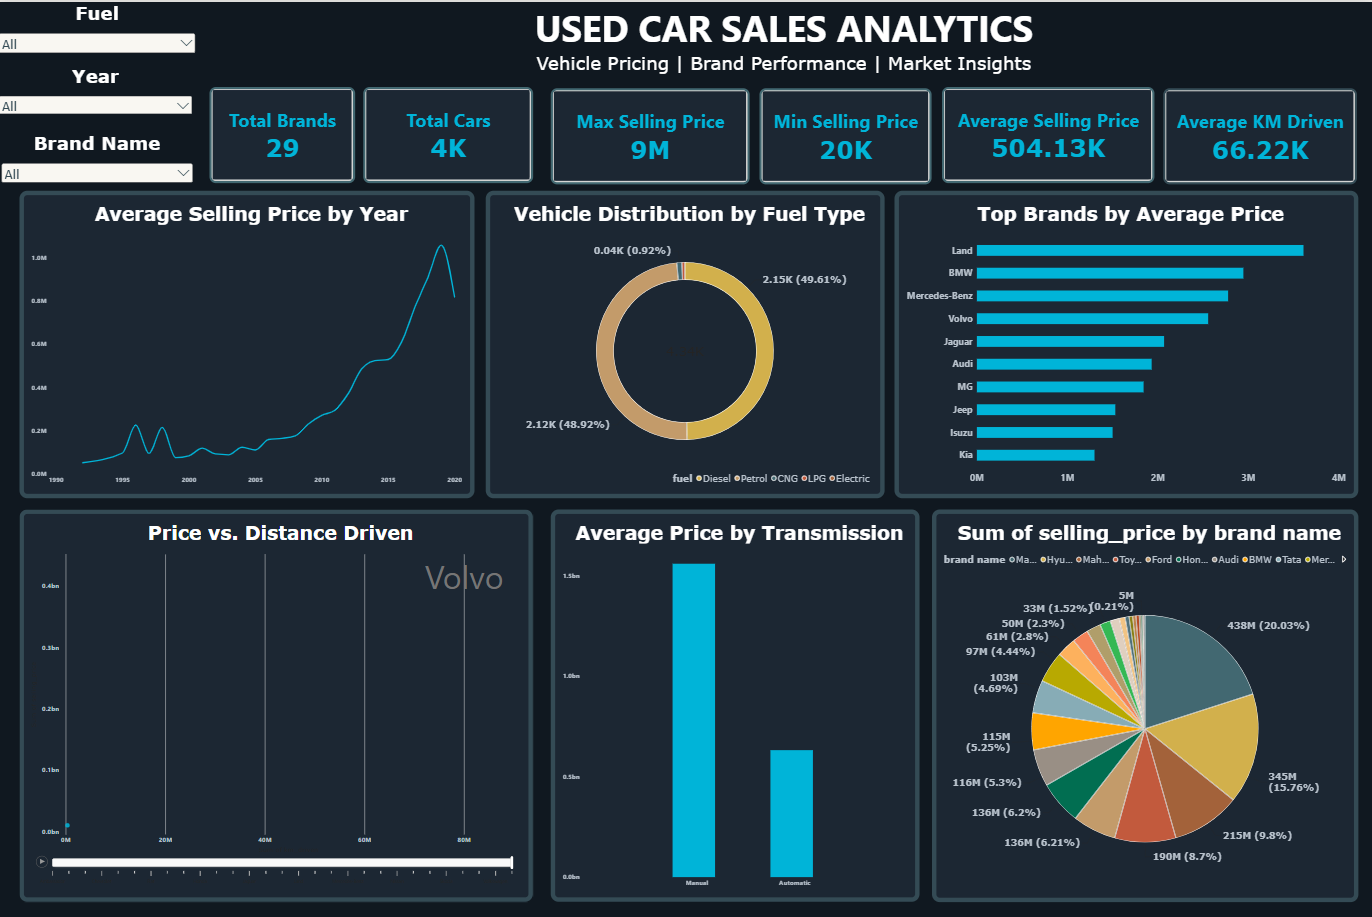

The page's visual inventory and layout, read from the dashboard file:
{"tool":"powerbi","page":{"name":"Page 1","canvas":[3000,2000],"ordinal":0},"visuals":[{"type":"slicer","title":"Fuel","fields":{"Values":["car_data (3).fuel"]},"box":[0,0,437.4,128.6],"z":0},{"type":"slicer","title":"Year","fields":{"Values":["car_data (3).year"]},"box":[0,136.3,430.2,107],"z":1000},{"type":"slicer","title":"Brand Name","fields":{"Values":["car_data (3).brand name"]},"box":[5.5,283.4,425.6,109.9],"z":2000},{"type":"cardVisual","title":"Total Brands","fields":{"Data":["car_data (3).Total Brands"]},"box":[463.3,185.3,317.4,209.3],"z":3000},{"type":"cardVisual","title":"Min Selling Price ","fields":{"Data":["car_data (3).Min Selling Price"]},"box":[1662.4,188,375,209.3],"z":4000},{"type":"cardVisual","title":"Max Selling Price","fields":{"Data":["car_data (3).Max Selling Price"]},"box":[1207.3,188,433.3,209.8],"z":5000},{"type":"textbox","title":"USED CAR SALES ANALYTICS","box":[463.3,0,2504.5,166.2],"z":6000},{"type":"cardVisual","title":"Avg Selling Price","fields":{"Data":["car_data (3).Average Selling Price"]},"box":[2060.3,185.3,463.3,209.8],"z":7000},{"type":"cardVisual","title":"Avg KM Driven","fields":{"Data":["car_data (3).Average KM Driven"]},"box":[2542.7,188,422.4,209.8],"z":8000},{"type":"cardVisual","title":"Total cars","fields":{"Data":["car_data (3).Total Cars"]},"box":[798.5,185.3,370.6,209.8],"z":9000},{"type":"lineChart","title":"Average Selling Price by Year","fields":{"Category":["car_data (3).year"],"Y":["Avg(car_data (3).selling_price)"]},"box":[27.3,411.5,1013.8,670.4],"z":10000},{"type":"clusteredBarChart","title":"Top Brands by Average Price","fields":{"Category":["car_data (3).brand name"],"Y":["Avg(car_data (3).selling_price)"]},"box":[1956.8,411.5,1011.1,670.4],"z":11000},{"type":"donutChart","title":"Vehicle Distribution by Fuel Type","fields":{"Category":["car_data (3).fuel"],"Y":["CountNonNull(car_data (3).selling_price)"]},"box":[1065.6,411.5,869.4,670.4],"z":12000},{"type":"clusteredColumnChart","title":"Average Price by Transmission","fields":{"Category":["car_data (3).transmission"],"Y":["Sum(car_data (3).selling_price)"]},"box":[1188.2,1106.5,823,855.7],"z":13000},{"type":"scatterChart","title":"Price vs. Distance Driven","fields":{"Play":["car_data (3).brand name"],"X":["Sum(car_data (3).km_driven)"],"Y":["Sum(car_data (3).selling_price)"]},"box":[27.3,1106.5,1139.2,855.7],"z":14000},{"type":"pieChart","fields":{"Category":["car_data (3).brand name"],"Y":["Sum(car_data (3).selling_price)"]},"box":[2038.5,1106.5,929.3,855.7],"z":15000}]}

Visuals, with their boxes in screenshot pixels (x1, y1, x2, y2), scaled from the page's 3000x2000 canvas onto the 1372x917 screenshot:
"Fuel" slicer: (0,0,200,59)
"Year" slicer: (0,62,197,112)
"Brand Name" slicer: (3,130,197,180)
"Total Brands" cardVisual: (212,85,357,181)
"Min Selling Price " cardVisual: (760,86,932,182)
"Max Selling Price" cardVisual: (552,86,750,182)
"USED CAR SALES ANALYTICS" textbox: (212,0,1357,76)
"Avg Selling Price" cardVisual: (942,85,1154,181)
"Avg KM Driven" cardVisual: (1163,86,1356,182)
"Total cars" cardVisual: (365,85,535,181)
"Average Selling Price by Year" lineChart: (12,189,476,496)
"Top Brands by Average Price" clusteredBarChart: (895,189,1357,496)
"Vehicle Distribution by Fuel Type" donutChart: (487,189,885,496)
"Average Price by Transmission" clusteredColumnChart: (543,507,920,900)
"Price vs. Distance Driven" scatterChart: (12,507,533,900)
pieChart - car_data (3).brand name x Sum(car_data (3).selling_price): (932,507,1357,900)
